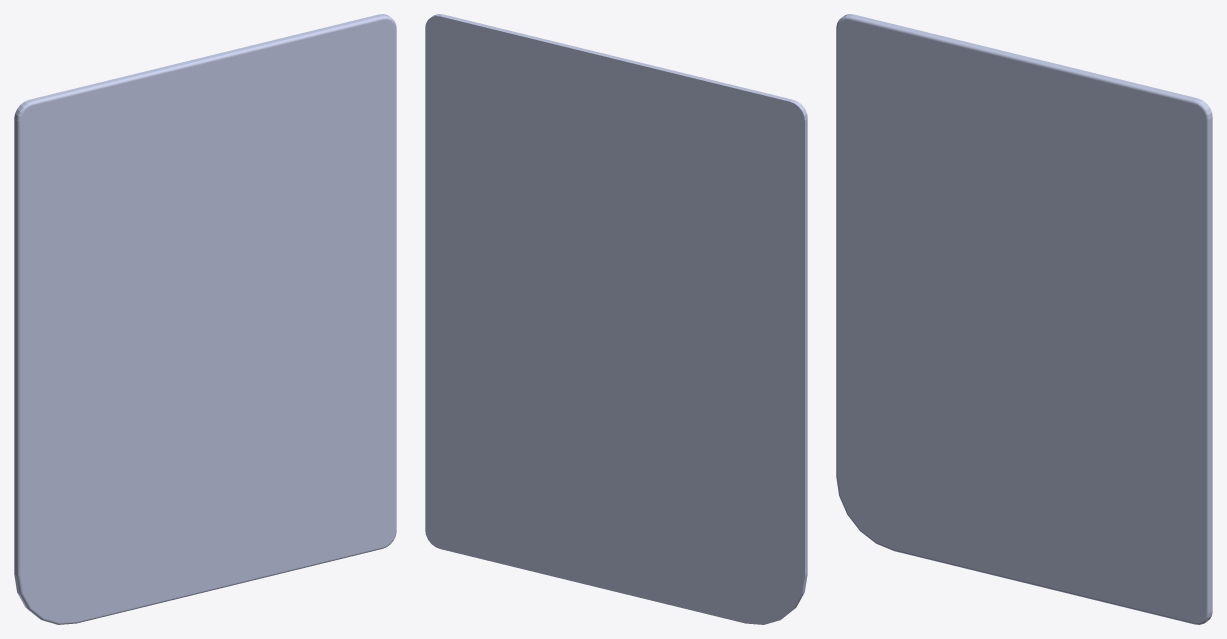
File: gbobj_screen.obj
The picture shows the model from 3 angles, left to right: view 1: azimuth 30°, elevation 25°; view 2: azimuth 150°, elevation 25°; view 3: azimuth 330°, elevation 25°; orthographic projection.
Visible parts, largest first — view 1: screen; view 2: screen; view 3: screen.
Part boxes in pixels (x1,y1,x2,y2): screen: [14, 14, 396, 624]; screen: [425, 14, 807, 624]; screen: [836, 14, 1212, 624].
Bounding box in the file's own units: 17.27 × 23.15 × 0.315.
